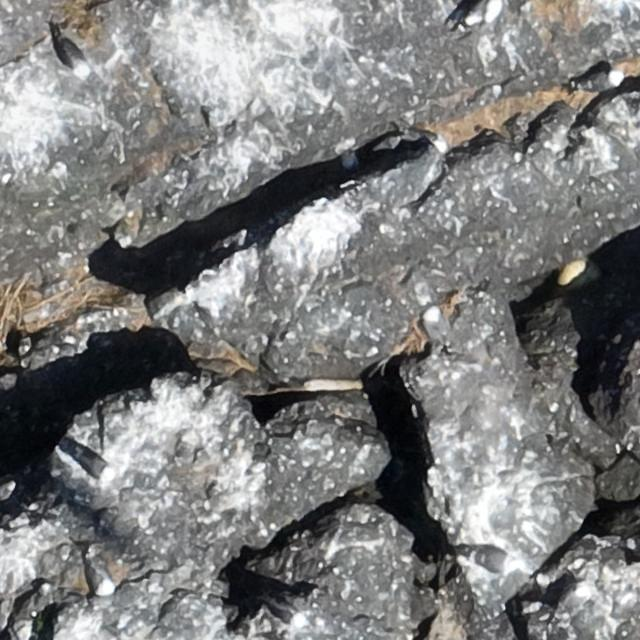umineko: (52, 26, 90, 79), (80, 552, 116, 599), (461, 0, 503, 32), (73, 450, 111, 482), (474, 551, 512, 570), (584, 71, 620, 91), (425, 308, 444, 341)
